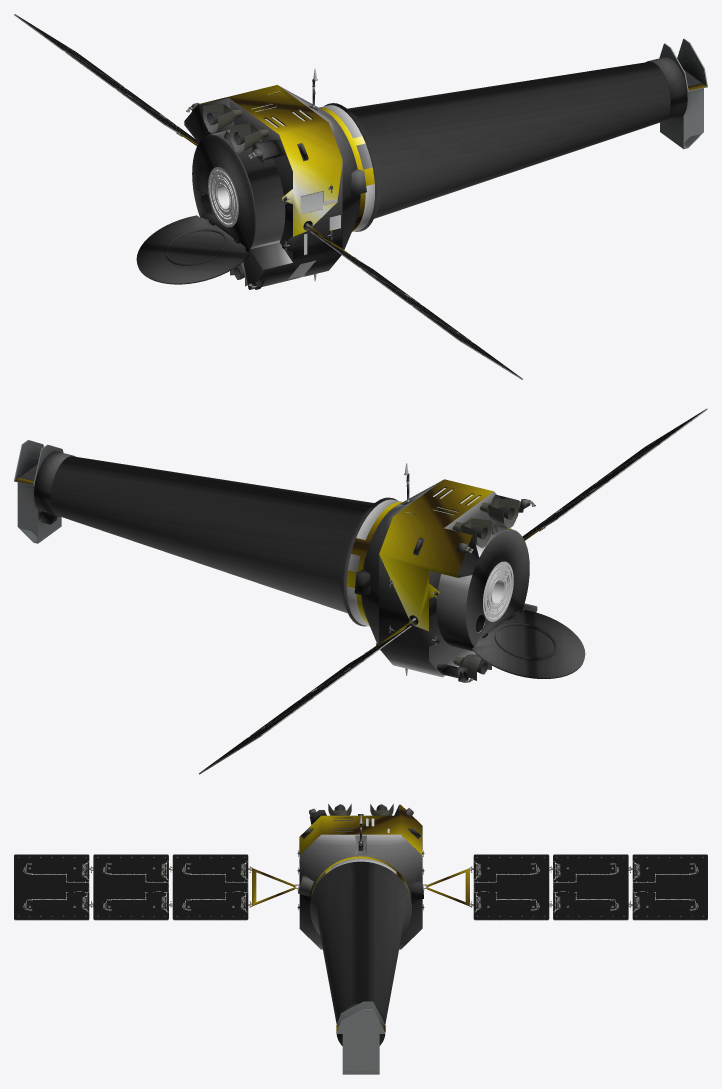
File: chandra.glb
3 views of the same model, one above another, from view 1: azimuth 30°, elevation 25°; view 2: azimuth 150°, elevation 25°; view 3: azimuth 270°, elevation 25° (orthographic). The views are drawn at different scales.
Parts seen in each view (by area): view 1: foil_silver, shiny_panel, foil_gold, AO_HRMA; view 2: foil_silver, foil_gold, shiny_panel, AO_HRMA; view 3: shiny_panel, foil_silver, foil_gold.
Part boxes in pixels (x1,y1,x2,y2): foil_silver: (136,57,687,289); shiny_panel: (14,14,707,379); foil_gold: (180,83,706,256); AO_HRMA: (208,167,238,227); foil_silver: (34,451,585,682); foil_gold: (15,478,541,651); shiny_panel: (14,408,707,774); AO_HRMA: (483,561,513,621); shiny_panel: (14,804,707,1074); foil_silver: (297,805,424,1045); foil_gold: (252,804,469,1032).
Bounding box in the file's own units: 13.78 × 5.12 × 19.51.
Materials: 4 (3 with a texture image).
